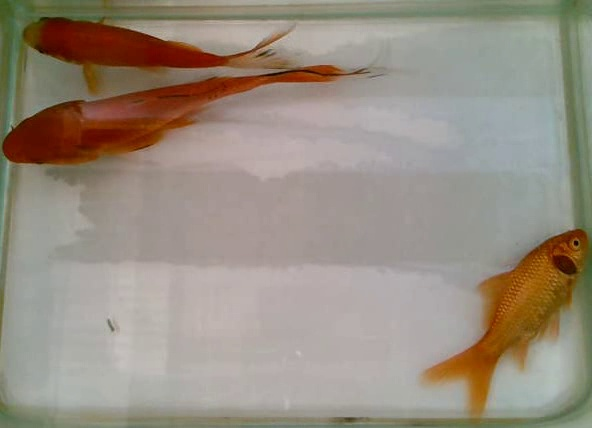alive_fish: (2, 37, 405, 169), (17, 1, 313, 98)
dead_fish: (408, 221, 592, 428)
